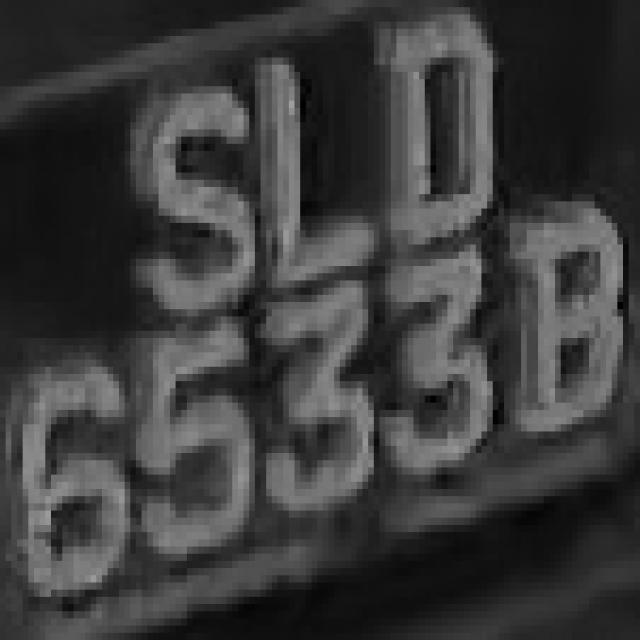3: (362, 237, 493, 489), (260, 266, 391, 511)
5: (136, 316, 266, 568)
6: (11, 338, 136, 604)
B: (510, 194, 623, 453)
D: (379, 22, 510, 273)
L: (232, 50, 380, 295)
S: (124, 65, 255, 309)
